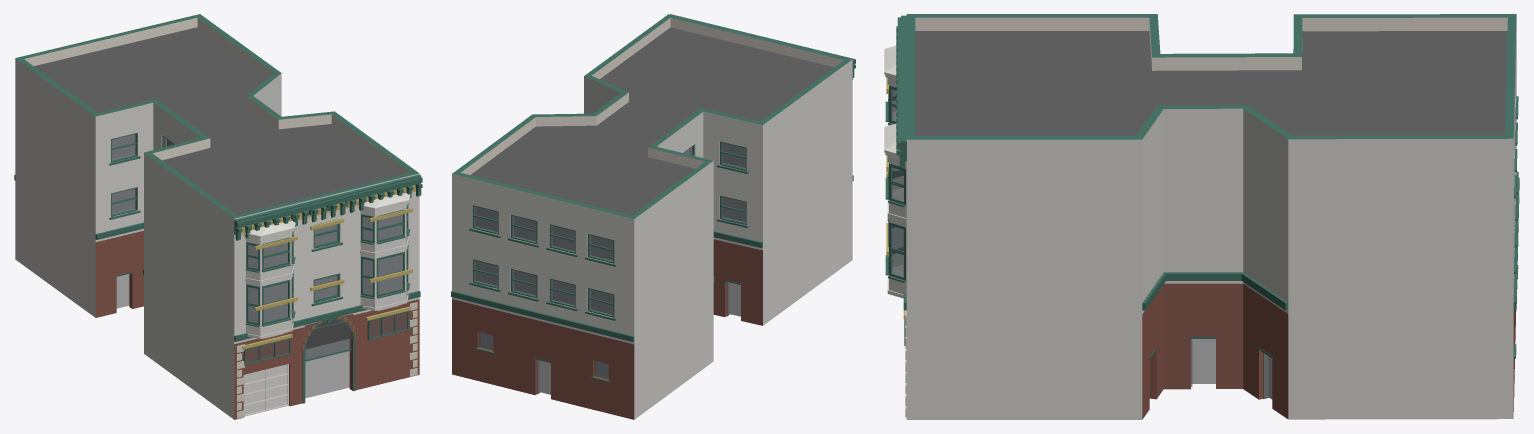
File: exterior.glb
The picture shows the model from 3 angles, left to right: view 1: azimuth 30°, elevation 25°; view 2: azimuth 150°, elevation 25°; view 3: azimuth 270°, elevation 25°; orthographic projection. The views are drawn at different scales.
Parts seen in each view (by area): view 1: shell, roof, shadow-proxy, bay-glazing-hyb, bay-windows-hyb, hand-ornament, trim, glazing, front-dressing-r4, storefront, frames, hyC-arches-5; view 2: shell, roof, glazing, shadow-proxy, trim, frames; view 3: shell, roof, trim, bay-windows-hyb, bay-glazing-hyb, shadow-proxy.
Boxes of the visible parts, box(x1,y1,x2,y2) form: shell: box(15, 14, 419, 419); roof: box(34, 27, 400, 214); shadow-proxy: box(112, 134, 402, 398); bay-glazing-hyb: box(245, 203, 410, 326); bay-windows-hyb: box(243, 193, 410, 338); hand-ornament: box(236, 208, 417, 418); trim: box(14, 156, 422, 341); glazing: box(112, 134, 351, 359); front-dressing-r4: box(235, 183, 422, 349); storefront: box(116, 271, 351, 416); frames: box(111, 133, 339, 302); hyC-arches-5: box(302, 314, 355, 403); shell: box(452, 14, 852, 419); roof: box(470, 27, 833, 215); glazing: box(474, 143, 745, 379); shadow-proxy: box(475, 143, 745, 394); trim: box(451, 14, 855, 382); frames: box(472, 141, 746, 317); shell: box(906, 14, 1516, 419); roof: box(915, 31, 1507, 135); trim: box(897, 15, 1519, 358); bay-windows-hyb: box(884, 45, 906, 298); bay-glazing-hyb: box(885, 78, 905, 282); shadow-proxy: box(1191, 339, 1272, 399).
Size of the model in its own units: 11.79 by 12.23 by 25.12.
